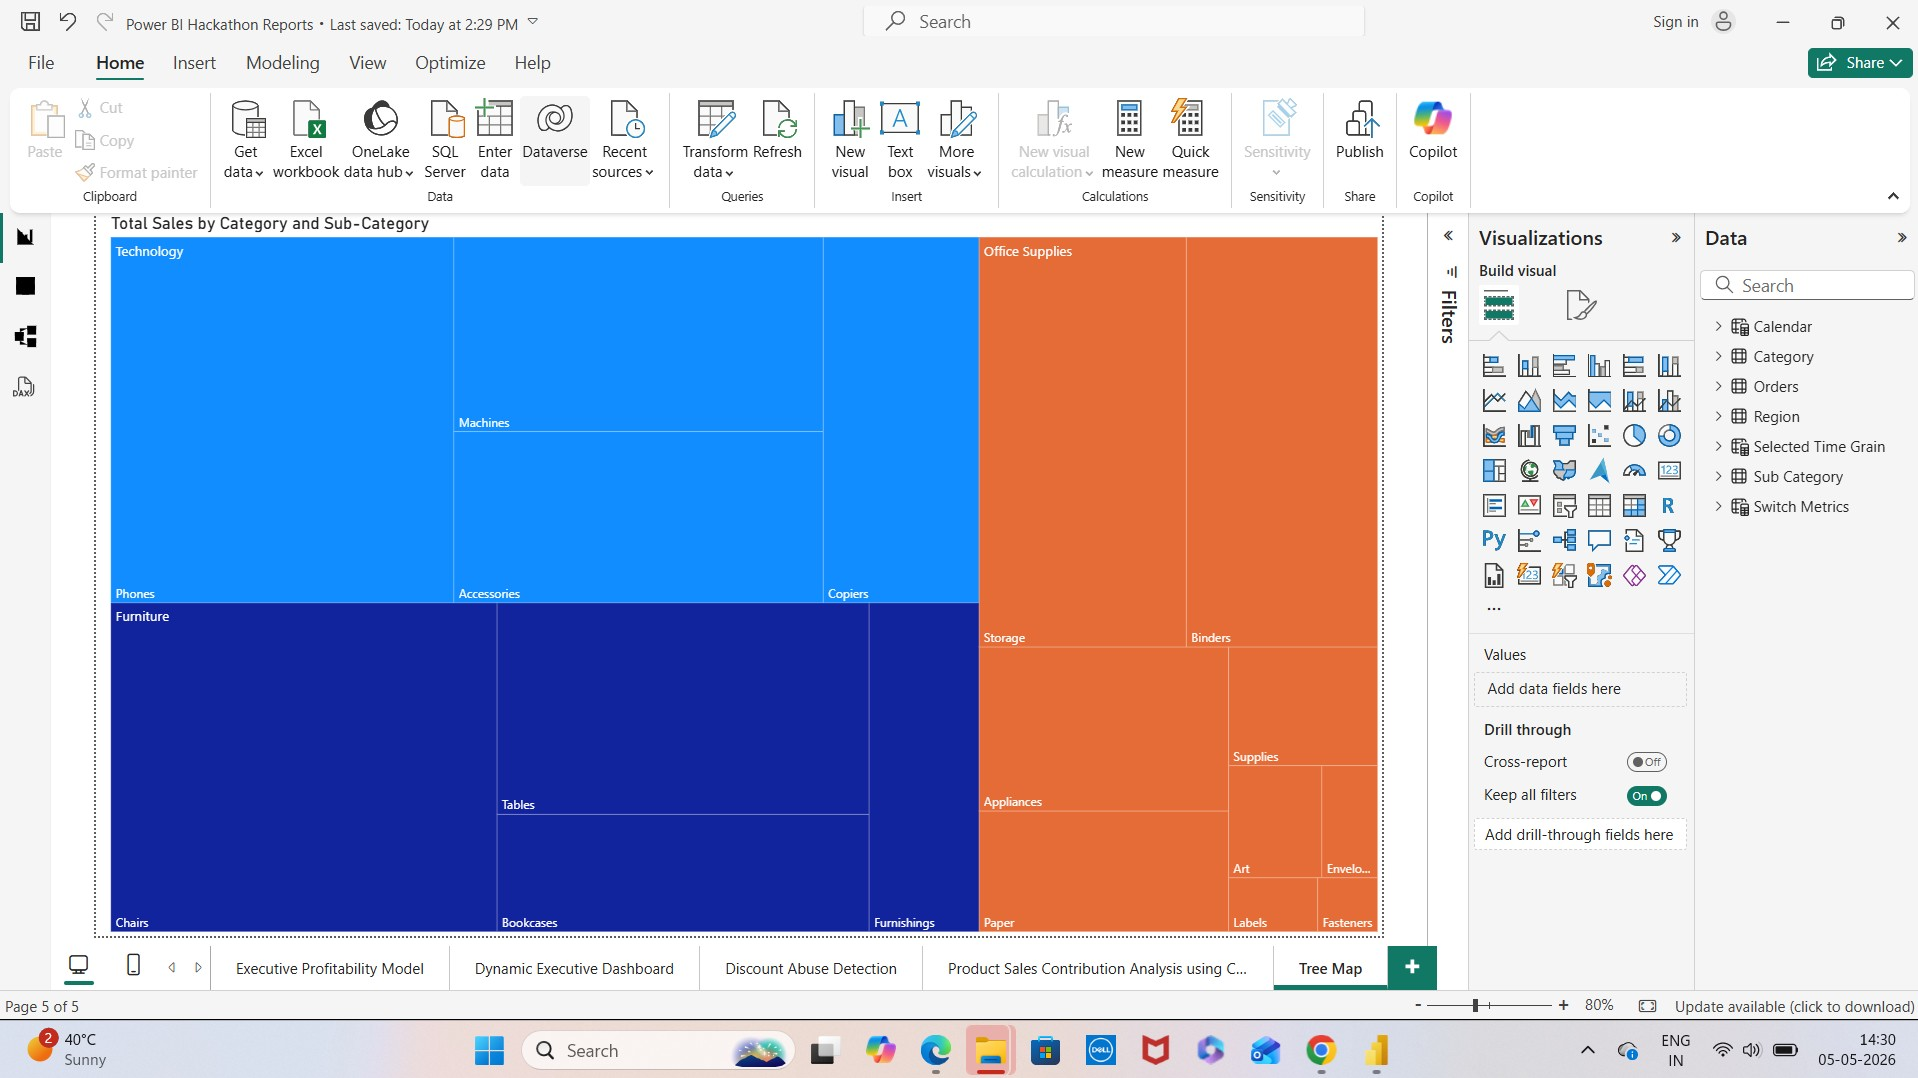

The page's visual inventory and layout, read from the dashboard file:
{"tool":"powerbi","page":{"name":"Tree Map","canvas":[1280,720],"ordinal":4},"visuals":[{"type":"treemap","fields":{"Group":["Executive Profitability Model.Category"],"Details":["Executive Profitability Model.Sub-Category"],"Values":["Executive Profitability Model.Total Sales"]},"box":[9.6,0,1270.7,720.4],"z":0}]}

Visuals, with their boxes on the page's 1280x720 design canvas (x1, y1, x2, y2). These are canvas units, not pixel positions in the 1918x1078 screenshot, which may show the page scaled, cropped or inside an application window:
treemap - Executive Profitability Model.Category x Executive Profitability Model.Sub-Category: Rect(10, 0, 1280, 720)
